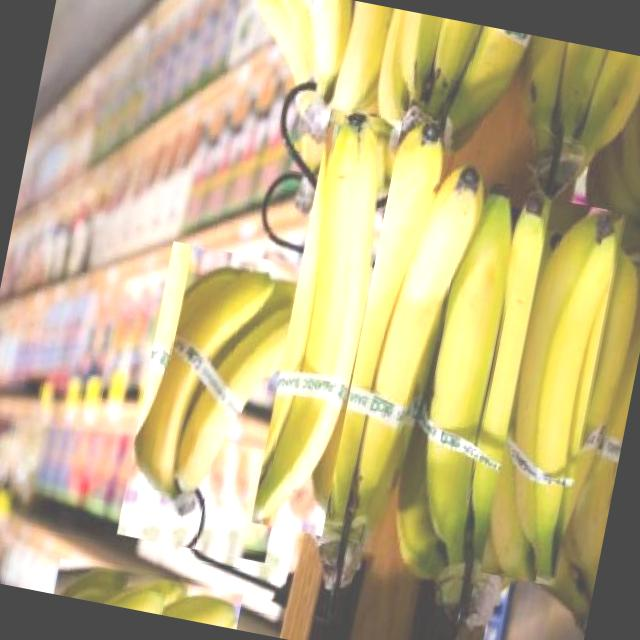Banana: (282, 132, 492, 604), (374, 185, 562, 628), (475, 189, 640, 631), (116, 240, 321, 562), (503, 35, 640, 212), (366, 8, 522, 152), (56, 553, 245, 630)
